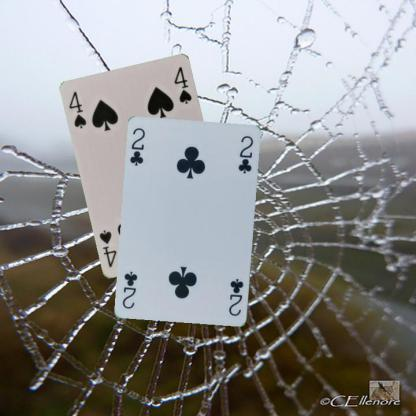2c: (226, 276, 245, 318), (128, 126, 146, 168)
4s: (66, 89, 88, 130)
